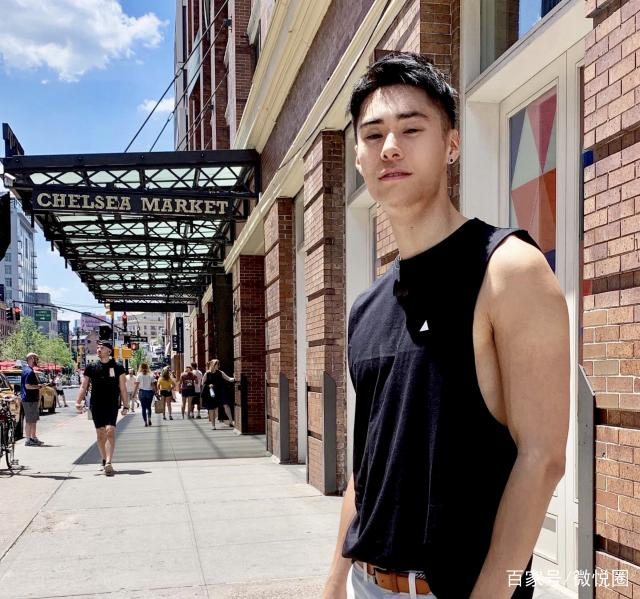person: (273, 80, 596, 594)
